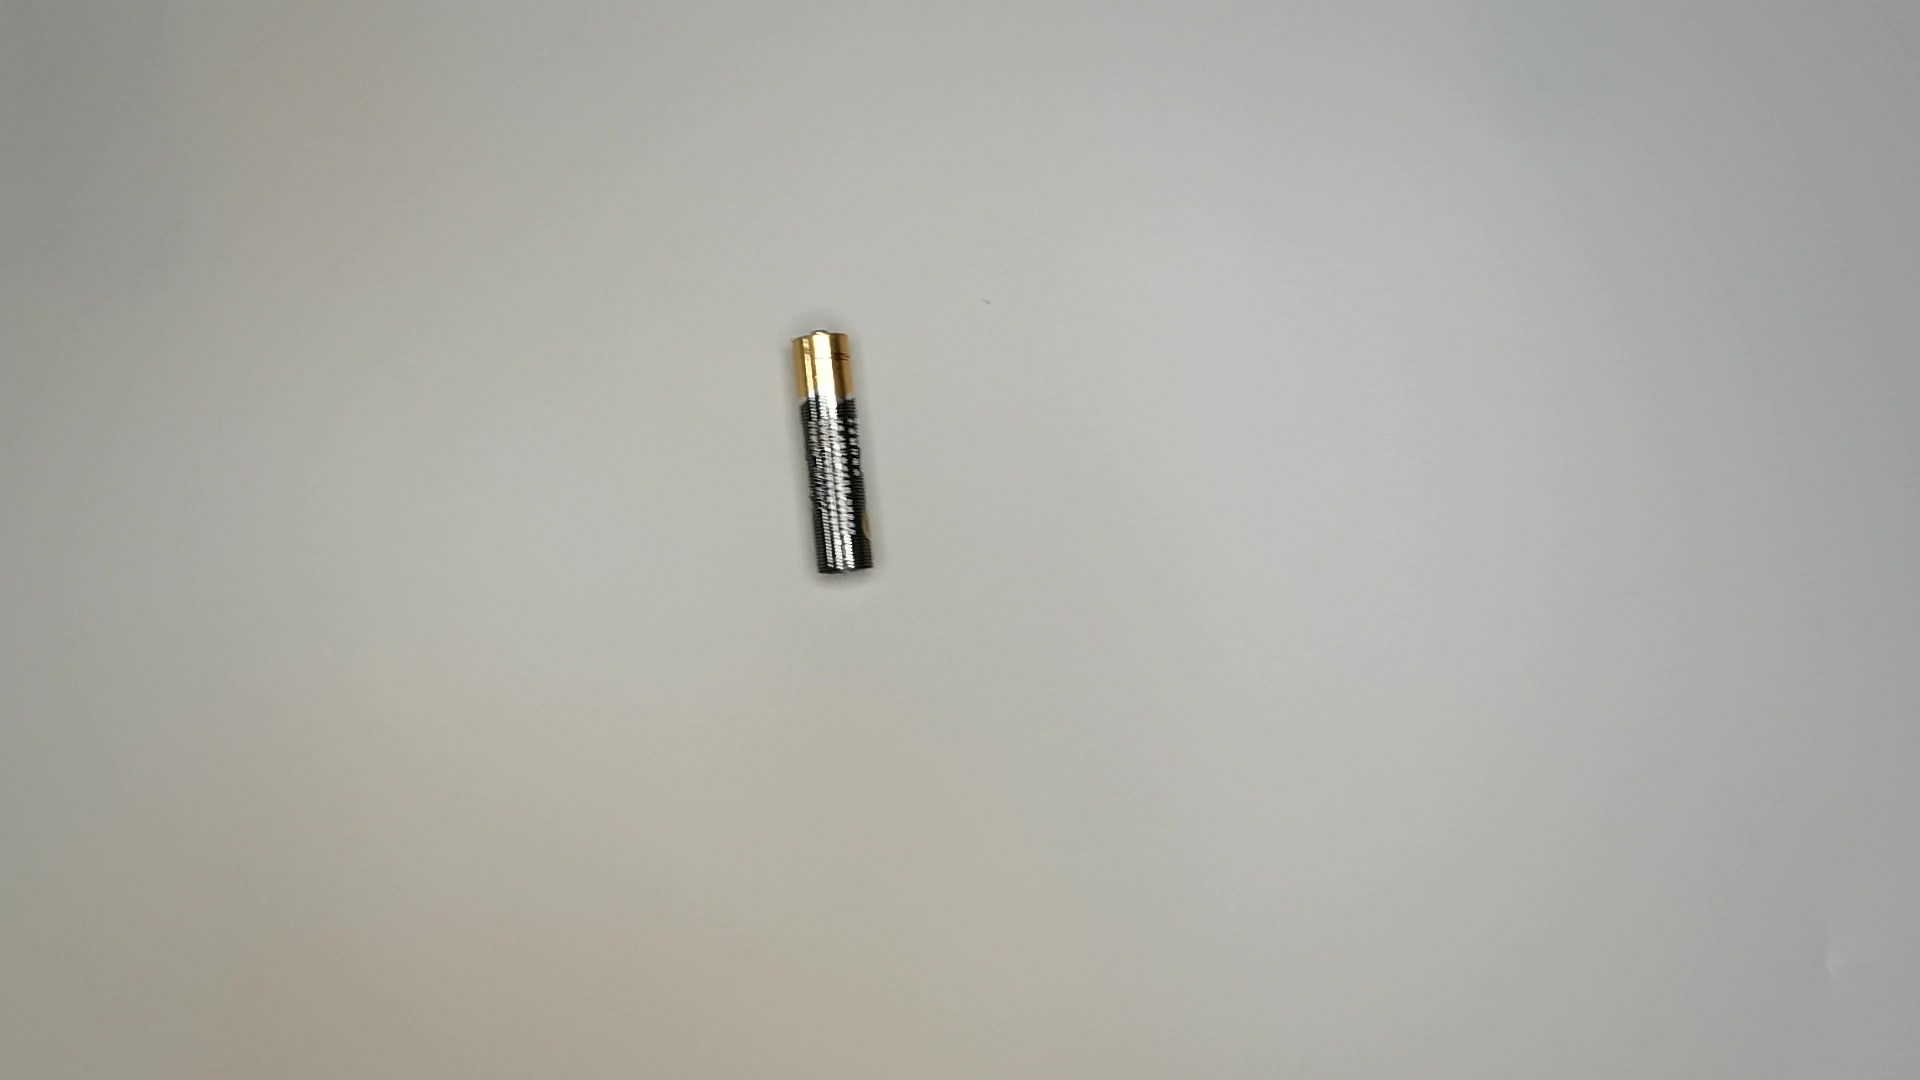battery: (789, 323, 889, 585)
